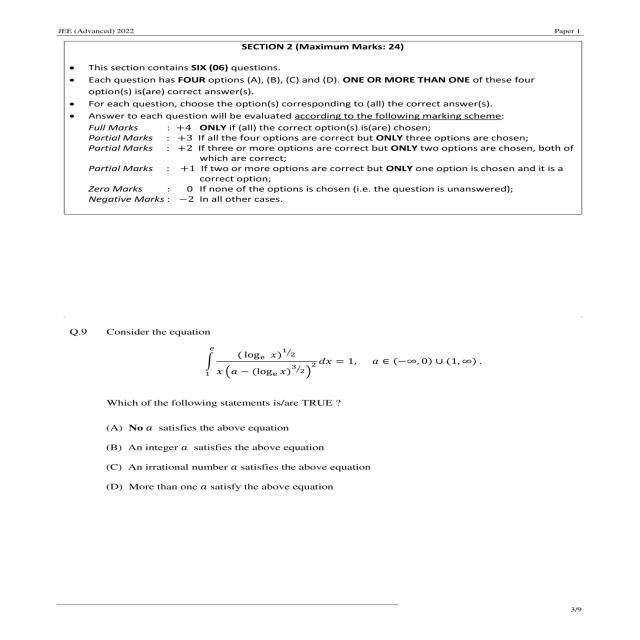Answer_Block: (61, 415, 602, 517)
Instruction: (61, 38, 602, 223)
Question_Answer_Block: (61, 314, 602, 516)
Question_Block: (61, 314, 602, 412)
Question_Paper_Area: (57, 41, 598, 586)
